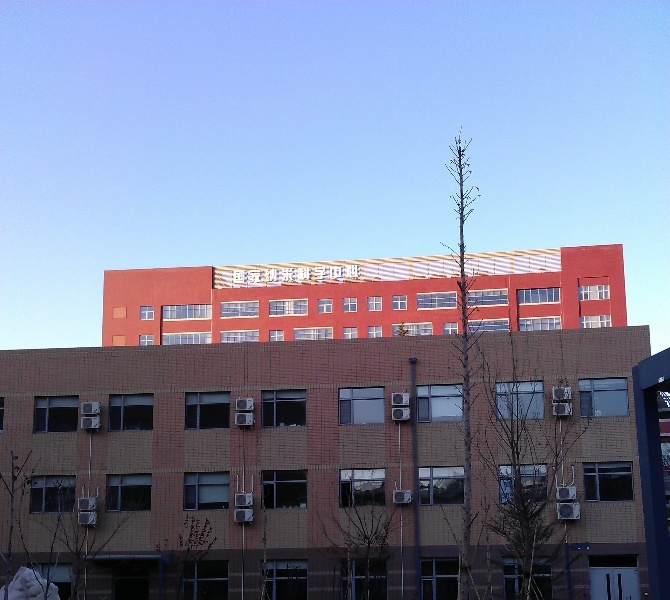text: (241, 264, 256, 285), (257, 264, 272, 285), (273, 264, 288, 285), (289, 264, 304, 285), (305, 264, 320, 285), (321, 264, 336, 285), (337, 264, 352, 285), (233, 264, 240, 285), (353, 264, 360, 285)
